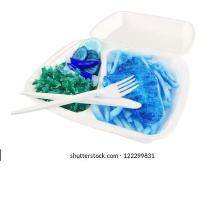foam_box: (16, 5, 200, 146)
